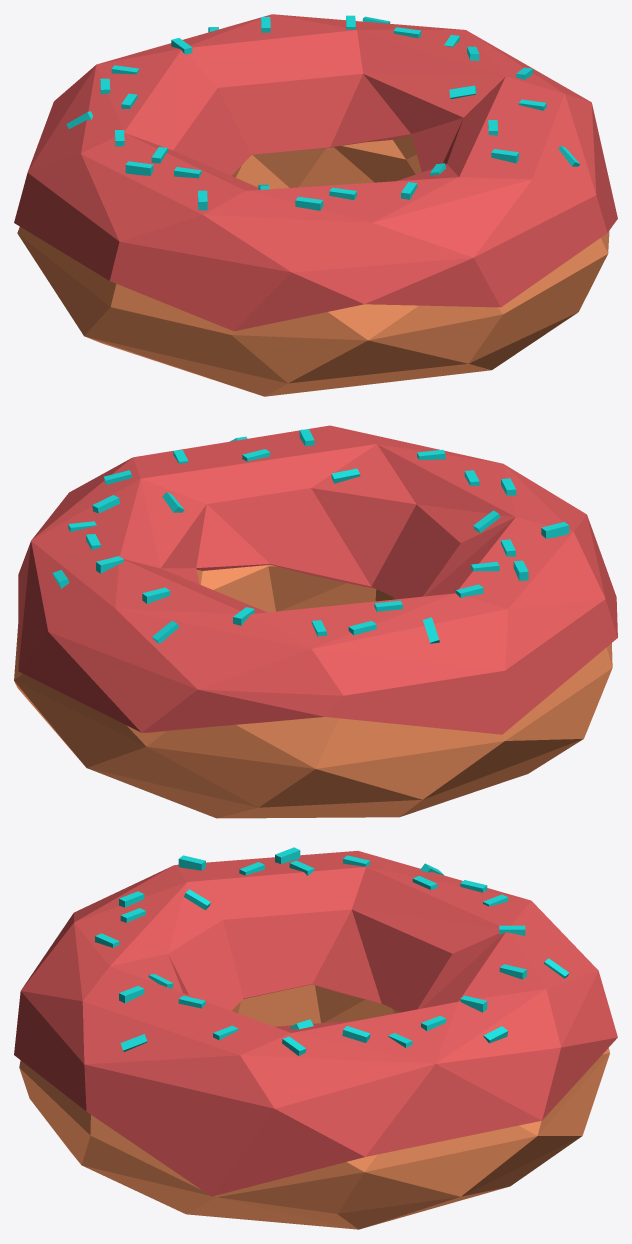
The model's file is doughnut2.fbx.
The picture shows the model from 3 angles, top to bottom: view 1: azimuth 30°, elevation 25°; view 2: azimuth 150°, elevation 25°; view 3: azimuth 270°, elevation 25°; orthographic projection. The views are drawn at different scales.
Visible parts, largest first — view 1: icing, doughnut, topping; view 2: icing, doughnut, topping; view 3: icing, doughnut, topping.
Boxes of the visible parts, x1,y1,x2,y2 form: icing: (14, 14, 617, 331); doughnut: (17, 135, 609, 396); topping: (66, 15, 579, 210); icing: (18, 425, 617, 734); doughnut: (14, 565, 612, 818); topping: (52, 429, 569, 643); icing: (14, 851, 617, 1196); doughnut: (19, 984, 609, 1229); topping: (95, 847, 569, 1055).
Size of the model in its own units: 10.1 by 3.62 by 10.44.
